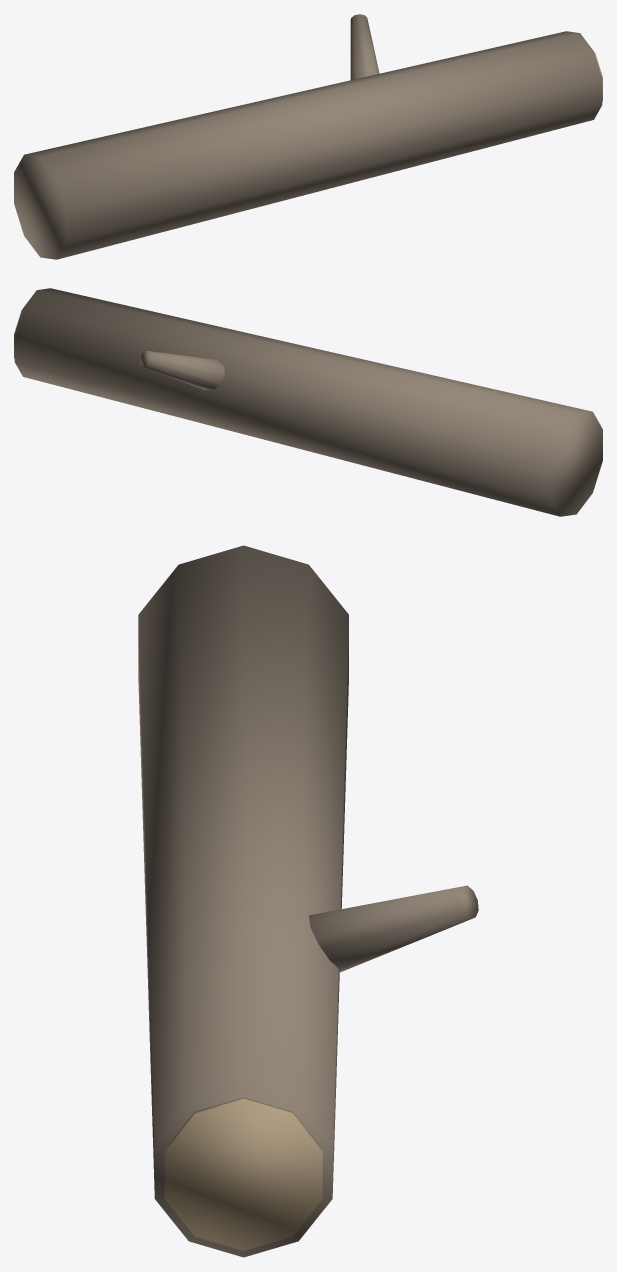
The model's file is Log_S120.fbx.
3 renders of one model, top to bottom at view 1: azimuth 30°, elevation 25°; view 2: azimuth 150°, elevation 25°; view 3: azimuth 270°, elevation 25°, orthographic. The views are drawn at different scales.
Parts seen in each view (by area): view 1: Log_S120; view 2: Log_S120; view 3: Log_S120.
Part boxes in pixels (<box>): Log_S120: <box>14,14,602,259</box>; Log_S120: <box>14,288,602,516</box>; Log_S120: <box>138,545,478,1257</box>.
Size of the model in its own units: 434 by 118 by 85.79.
